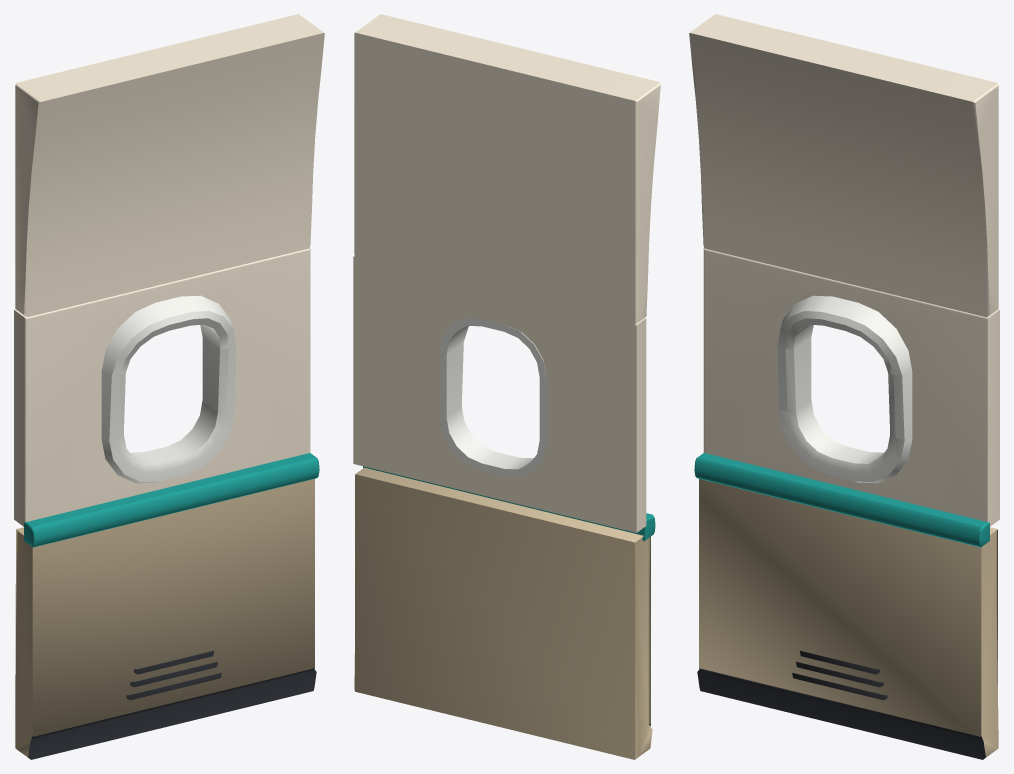
The model's file is PanelVentana.fbx.
The picture shows the model from 3 angles, left to right: view 1: azimuth 30°, elevation 25°; view 2: azimuth 150°, elevation 25°; view 3: azimuth 330°, elevation 25°; orthographic projection.
Visible parts, largest first — view 1: PanelVentana; view 2: PanelVentana; view 3: PanelVentana.
Part boxes in pixels (x1=…): PanelVentana: x1=14, y1=14, x2=324, y2=759; PanelVentana: x1=353, y1=14, x2=660, y2=759; PanelVentana: x1=689, y1=14, x2=999, y2=759.
Bounding box in the file's own units: 4.5 × 10 × 0.7502.
Materials: 1 (1 with a texture image).
